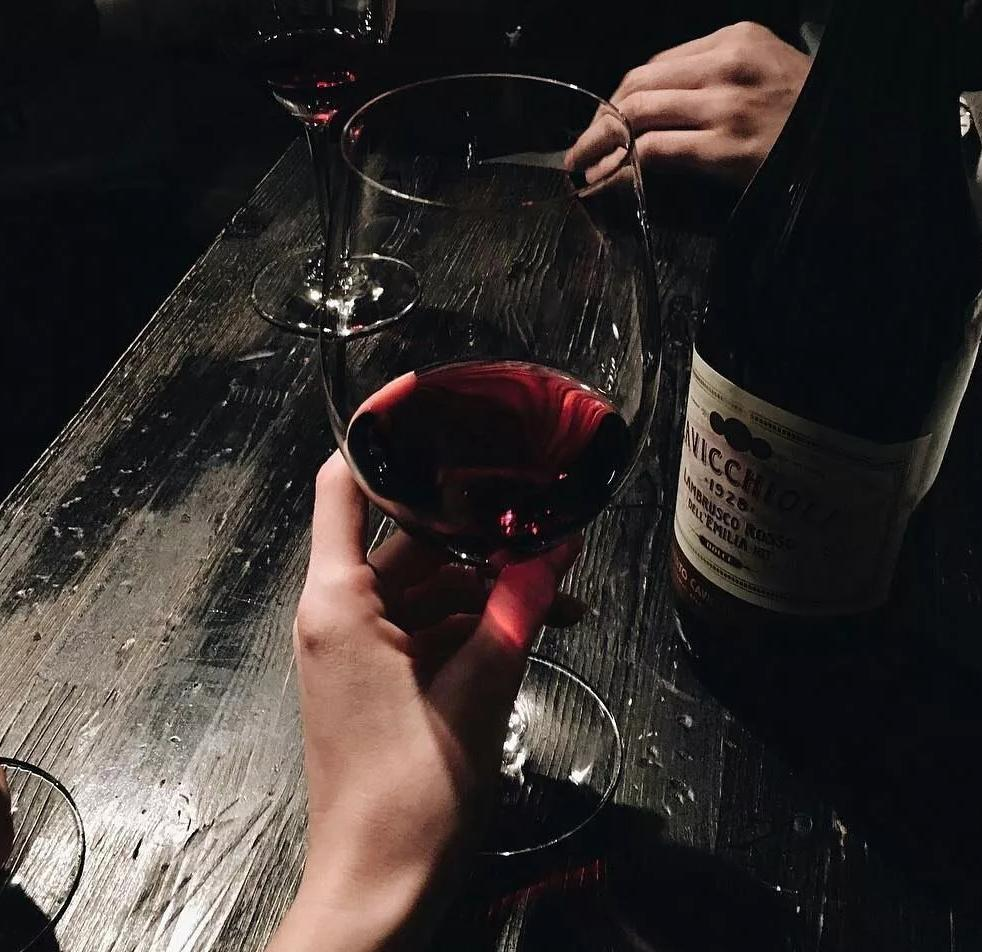wine bottle: (667, 0, 982, 721)
wine label: (670, 344, 936, 658)
